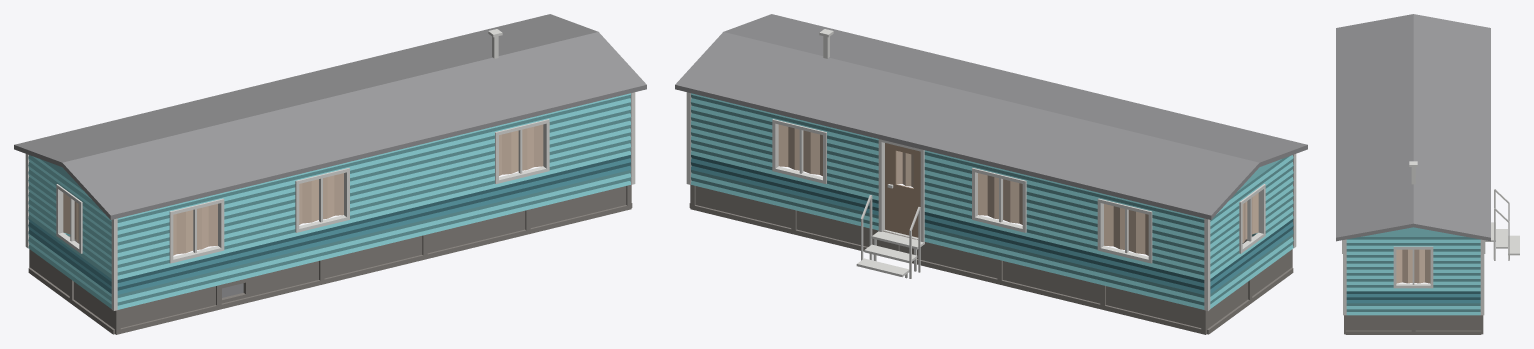
The model's file is trailer-home-a.glb.
3 renders of one model, left to right at view 1: azimuth 30°, elevation 25°; view 2: azimuth 150°, elevation 25°; view 3: azimuth 270°, elevation 25°, orthographic. The views are drawn at different scales.
Visible parts, largest first — view 1: TrailerHomeA; view 2: TrailerHomeA; view 3: TrailerHomeA.
Part boxes in pixels (x1,y1,x2,y2): TrailerHomeA: [14, 14, 646, 334]; TrailerHomeA: [675, 14, 1307, 334]; TrailerHomeA: [1336, 14, 1519, 334].
Bounding box in the file's own units: 12.36 × 3.7 × 4.58.
